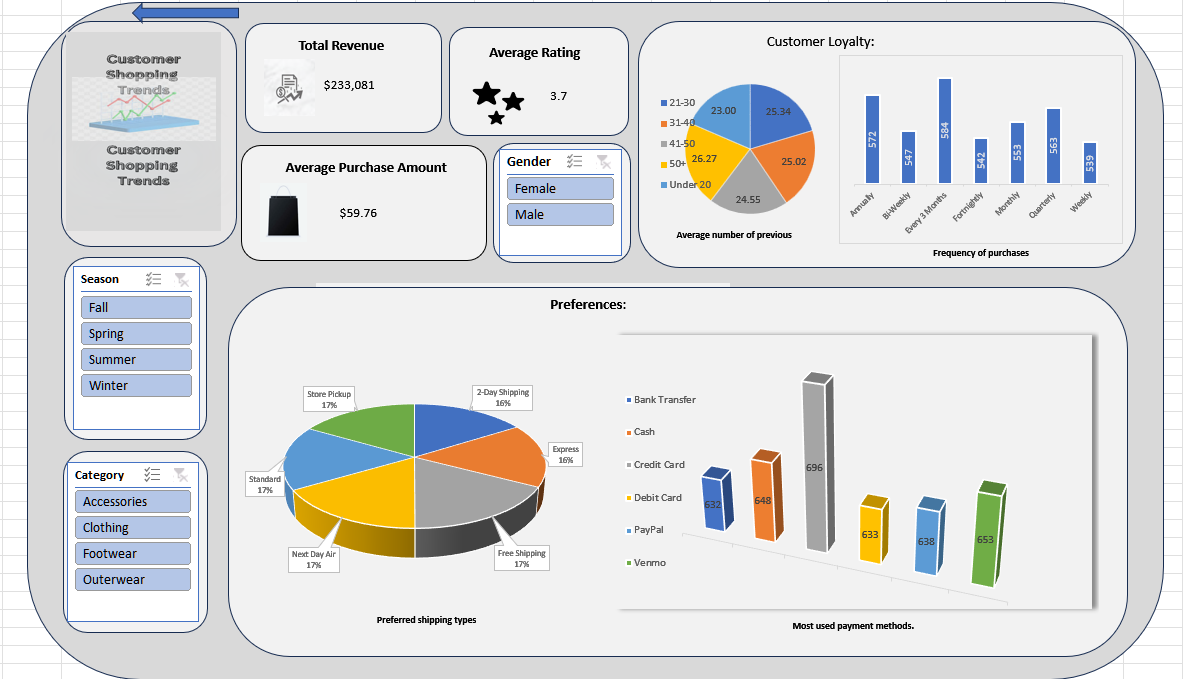

The dashboard page shown, as its layout file describes it:
{"tool":"powerbi","page":{"name":"Page 2","canvas":[1280,720],"ordinal":1},"visuals":[{"type":"shape","box":[697.9,0,582.9,720.6],"z":0,"group":"g3"},{"type":"group","id":"g1","title":"Group 5","box":[13,11.3,654.2,304.4],"z":0},{"type":"shape","box":[13,11.3,634.4,304.4],"z":0,"group":"g1"},{"type":"shape","box":[611.5,282,89.1,76.1],"z":0,"group":"g4"},{"type":"shape","box":[4.9,339.3,662.3,360.2],"z":0,"group":"g2"},{"type":"textbox","box":[38.9,29.1,628.3,47],"z":1000,"group":"g1"},{"type":"pieChart","fields":{"Category":["shopping_trends.Payment Method"],"Y":["CountNonNull(shopping_trends.Customer ID)"]},"box":[731.2,87.5,367.6,267.1],"z":1000,"group":"g3"},{"type":"group","id":"g2","title":"Group 1","box":[4.9,331.9,662.3,367.6],"z":1000},{"type":"lineClusteredColumnComboChart","fields":{"Y":["shopping_trends.AvgPreviousPurchase","shopping_trends.Avrg purchase amount"]},"box":[45.4,353.6,208.9,141.8],"z":1000,"group":"g2"},{"type":"group","id":"g3","title":"Group 2","box":[697.9,0,582.9,720.6],"z":2000},{"type":"card","title":"TOTAL REVENUE","fields":{"Values":["shopping_trends.Total Revenue"]},"box":[254.3,89,174.9,64.8],"z":2000,"group":"g1"},{"type":"donutChart","fields":{"Category":["shopping_trends.Shipping Type"],"Y":["CountNonNull(shopping_trends.Customer ID)"]},"box":[858.8,367.4,359.5,288.2],"z":2000,"group":"g3"},{"type":"treemap","fields":{"Group":["shopping_trends.Frequency of Purchases"],"Values":["Sum(shopping_trends.Purchase Amount (USD))"]},"box":[330.4,391.9,317.4,253.4],"z":2000,"group":"g2"},{"type":"group","id":"g4","title":"Group 6","box":[611.5,282,89.1,76.1],"z":2001,"group":"g5"},{"type":"shape","box":[629.9,309.2,51.8,45.3],"z":2002,"group":"g5"},{"type":"group","id":"g5","title":"Group 3","box":[611.5,282,89.1,76.1],"z":2003},{"type":"textbox","box":[780.1,36.8,367.6,47.3],"z":3000,"group":"g3"},{"type":"card","title":"Avrg Purchase Amount","fields":{"Values":["shopping_trends.Avrg purchase amount"]},"box":[247.8,157,285,77.7],"z":3000,"group":"g1"},{"type":"lineStackedColumnComboChart","fields":{"Category":["shopping_trends.Category"],"Y":["shopping_trends.AvgPreviousPurchase","shopping_trends.Avrg purchase amount"]},"box":[38.9,484.3,302.8,215.2],"z":3000,"group":"g2"},{"type":"image","box":[140.9,84.2,113.3,69.6],"z":4000,"group":"g1"},{"type":"textbox","box":[764.3,332.7,381.8,40.6],"z":4000,"group":"g3"},{"type":"textbox","box":[87.5,661.2,281.7,35.1],"z":4000,"group":"g2"},{"type":"image","box":[468,195.9,127.9,84.2],"z":5000,"group":"g1"},{"type":"textbox","box":[171.7,331.9,302.4,46.6],"z":5000,"group":"g2"},{"type":"textbox","box":[805.3,659,293.5,38.9],"z":5000,"group":"g3"},{"type":"slicer","fields":{"Values":["shopping_trends.Category"]},"box":[273.7,252.6,166.8,55.1],"z":6000,"group":"g1"},{"type":"textbox","box":[369.2,645.3,244.5,33.5],"z":6000,"group":"g2"},{"type":"slicer","fields":{"Values":["shopping_trends.Season"]},"box":[87.5,252.6,166.8,55.1],"z":7000,"group":"g1"}]}

Visuals, with their boxes in screenshot pixels (x1, y1, x2, y2), scaled from the page's 1280x720 canvas onto the 1183x679 screenshot:
shape: crop(645, 0, 1182, 678)
"Group 5" group: crop(12, 11, 617, 298)
shape: crop(12, 11, 598, 298)
shape: crop(565, 266, 648, 338)
shape: crop(5, 320, 617, 660)
textbox: crop(36, 27, 617, 72)
pieChart - shopping_trends.Payment Method x CountNonNull(shopping_trends.Customer ID): crop(676, 83, 1016, 334)
"Group 1" group: crop(5, 313, 617, 660)
lineClusteredColumnComboChart - shopping_trends.AvgPreviousPurchase x shopping_trends.Avrg purchase amount: crop(42, 333, 235, 467)
"Group 2" group: crop(645, 0, 1182, 678)
"TOTAL REVENUE" card: crop(235, 84, 397, 145)
donutChart - shopping_trends.Shipping Type x CountNonNull(shopping_trends.Customer ID): crop(794, 346, 1126, 618)
treemap - shopping_trends.Frequency of Purchases x Sum(shopping_trends.Purchase Amount (USD)): crop(305, 370, 599, 609)
"Group 6" group: crop(565, 266, 648, 338)
shape: crop(582, 292, 630, 334)
"Group 3" group: crop(565, 266, 648, 338)
textbox: crop(721, 35, 1061, 79)
"Avrg Purchase Amount" card: crop(229, 148, 492, 221)
lineStackedColumnComboChart - shopping_trends.Category x shopping_trends.AvgPreviousPurchase: crop(36, 457, 316, 660)
image: crop(130, 79, 235, 145)
textbox: crop(706, 314, 1059, 352)
textbox: crop(81, 624, 341, 657)
image: crop(433, 185, 551, 264)
textbox: crop(159, 313, 438, 357)
textbox: crop(744, 621, 1016, 658)
slicer - shopping_trends.Category: crop(253, 238, 407, 290)
textbox: crop(341, 609, 567, 640)
slicer - shopping_trends.Season: crop(81, 238, 235, 290)
